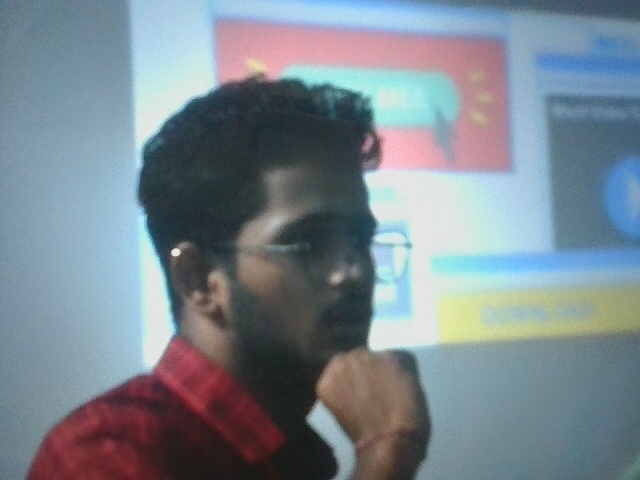fake: (456, 218, 575, 337), (367, 233, 401, 267)
